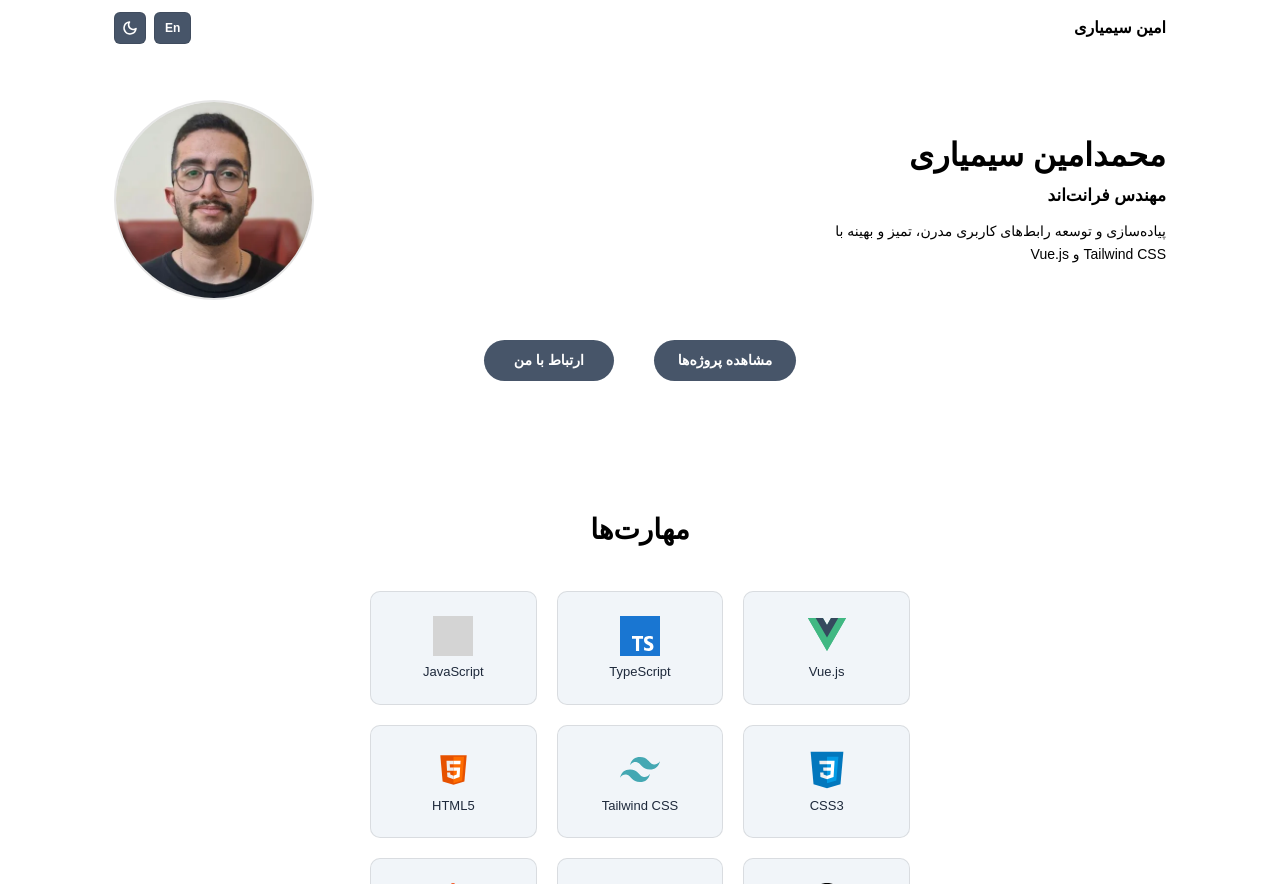
App › Language switching › english shows projects section in english
This screenshot has width=1280, height=884.
Click the button with class "lang-toggle". click: point(173, 28)
box: [154, 12, 191, 44]
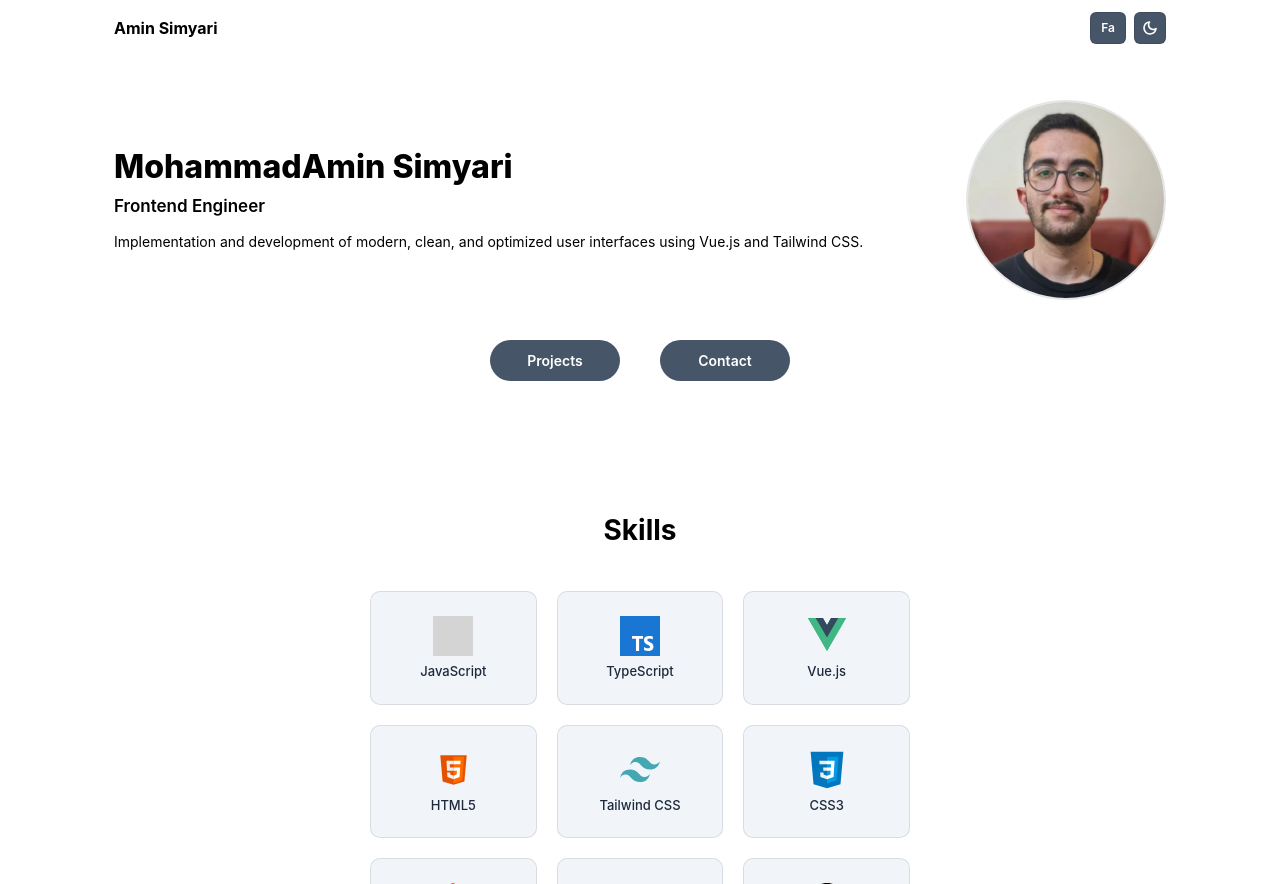
Result: the text "Projects" is shown at [490, 340, 620, 381]
